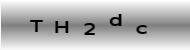2: (82, 22, 97, 36)
H: (52, 19, 70, 34)
T: (29, 19, 44, 33)
c: (135, 23, 148, 36)
d: (108, 13, 123, 27)
